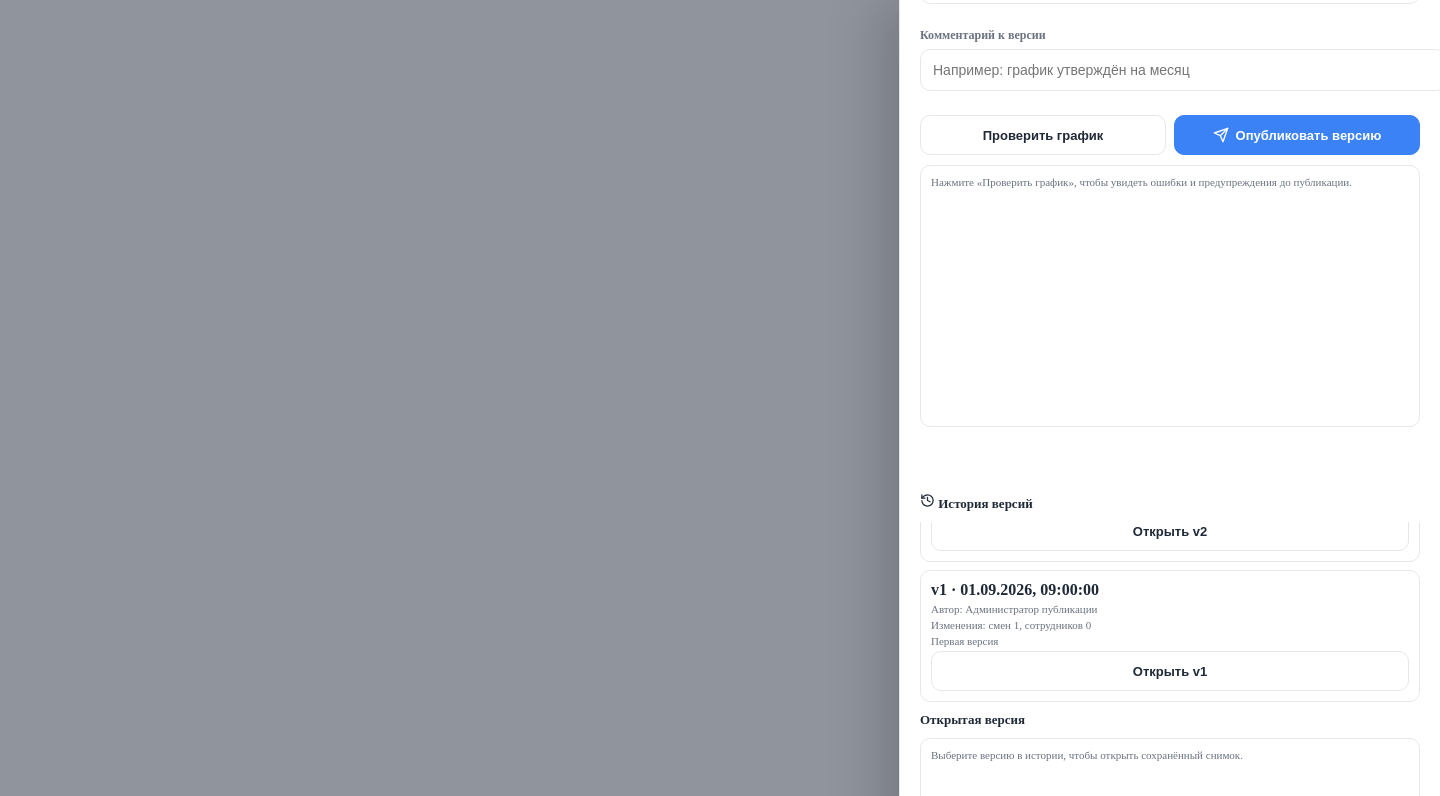
Test: schedule publication controls › ignores a late acknowledgement response from a previously opened version
(page scrolled)
Step 1. Click the button "Открыть v1" → (1170, 671), box [931,651,1409,691]
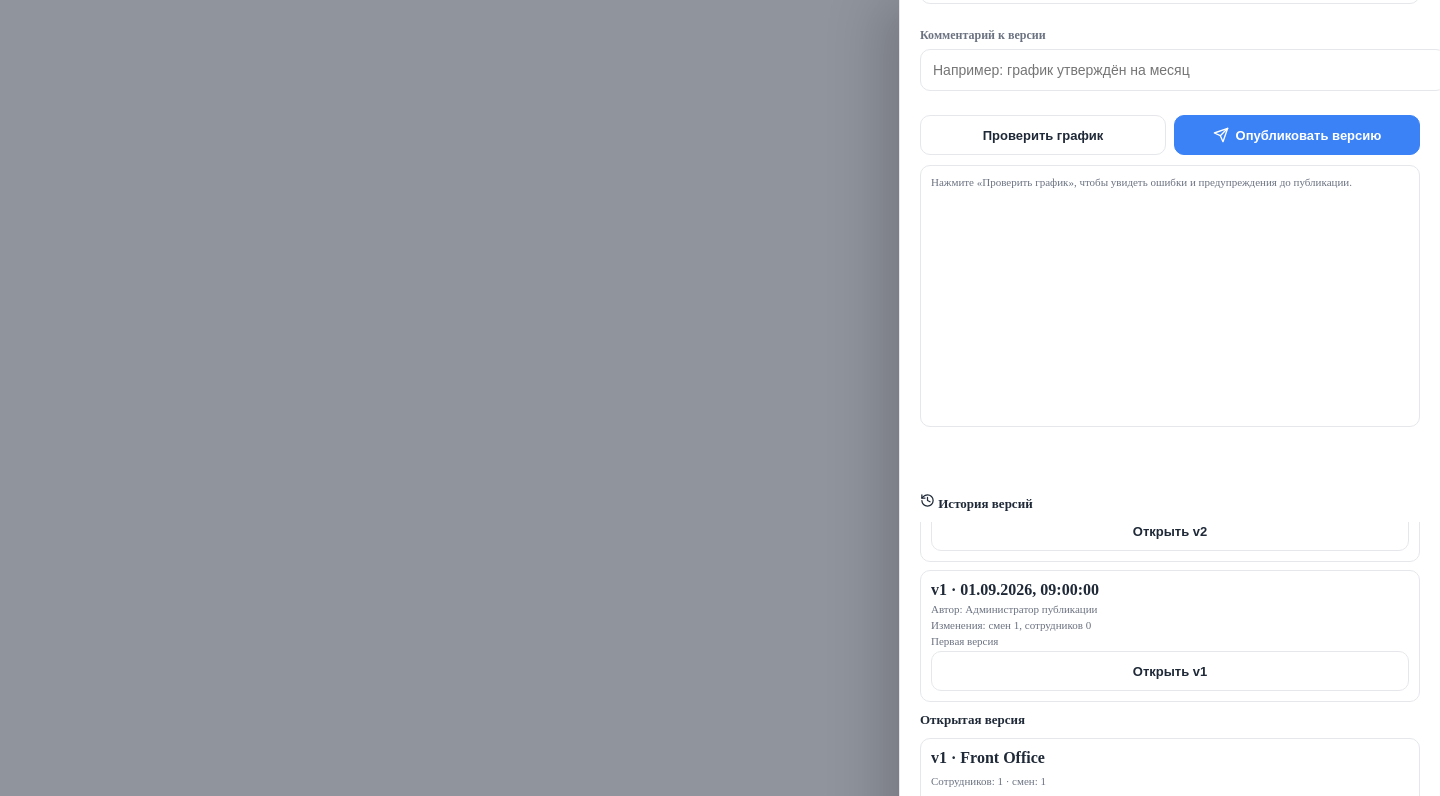
Step 2. Click the button "Открыть v2" → (1170, 531), box [931,511,1409,551]
(page scrolled)
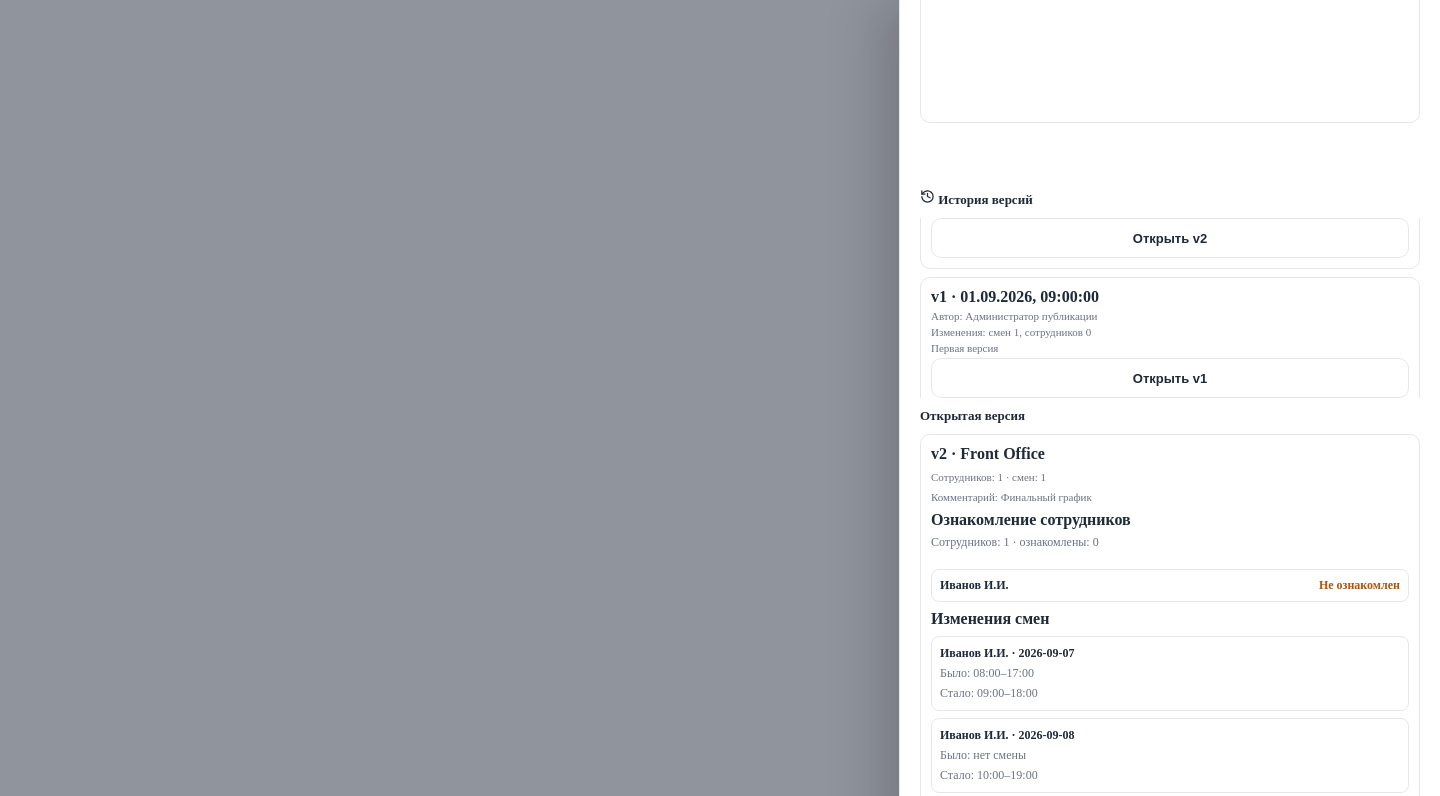
Result: the text "Не ознакомлен" is shown at [1319,578,1400,593]
